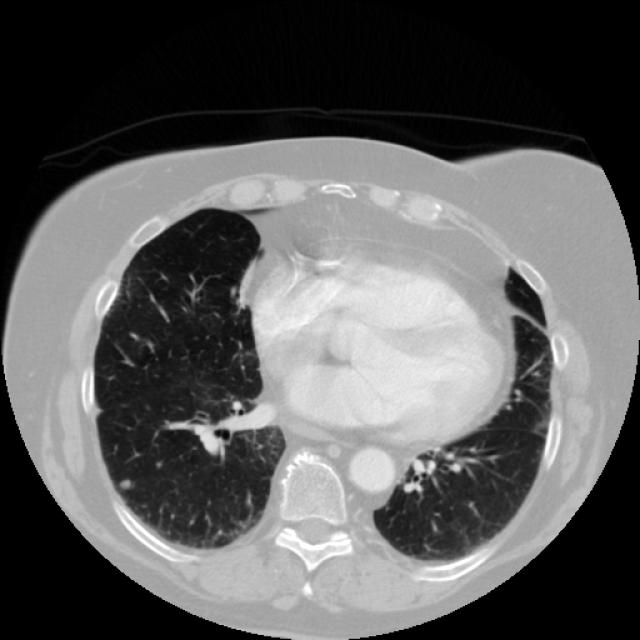nodule: (111, 470, 139, 498)
